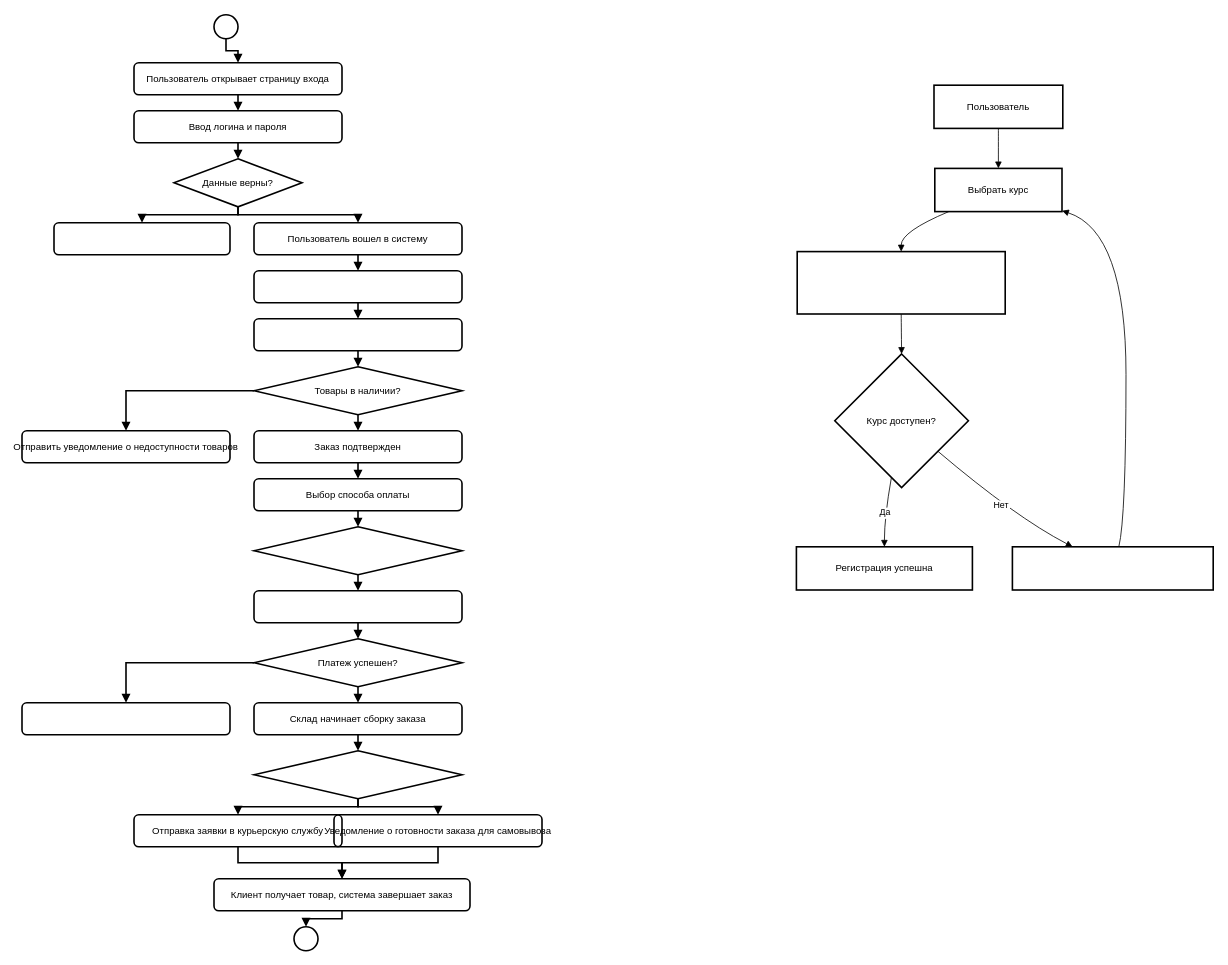
Some shapes in this 1228 by 965 pixel diagram are drawn without their labels. Here are the shapes that lost their labels. From the top down, the centre of each, then its label:
point 141,238: Показать ошибку входа
point 357,286: Клиент создает заказ через сайт
point 901,282: Проверить доступность курса
point 357,334: Система проверяет наличие товаров
point 357,550: Онлайн-платеж?
point 1112,568: Ошибка: курс недоступен
point 357,606: Проверка платежа через шлюз
point 125,718: Отправка уведомления о неудачной оплате
point 357,774: Доставка курьером?
